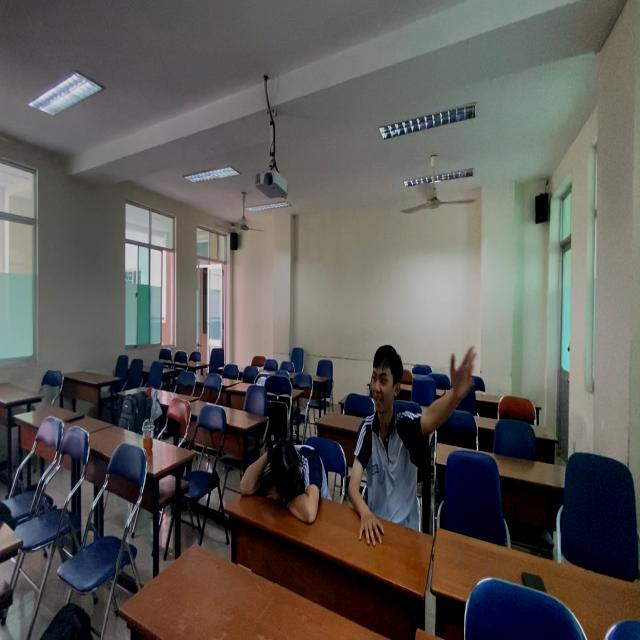sleep: (237, 418, 333, 535)
